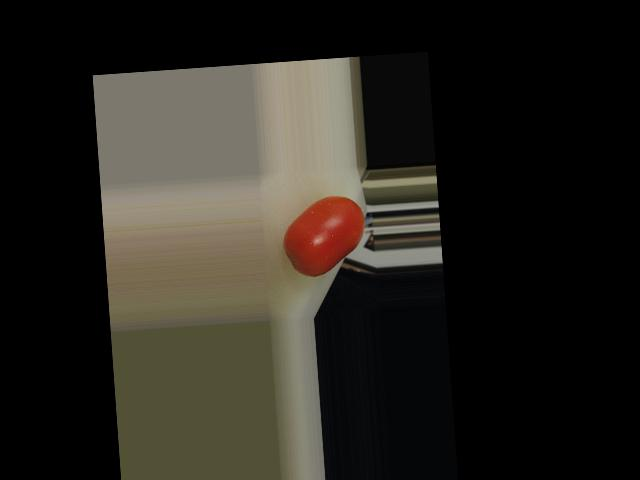tomato: (280, 194, 368, 278)
